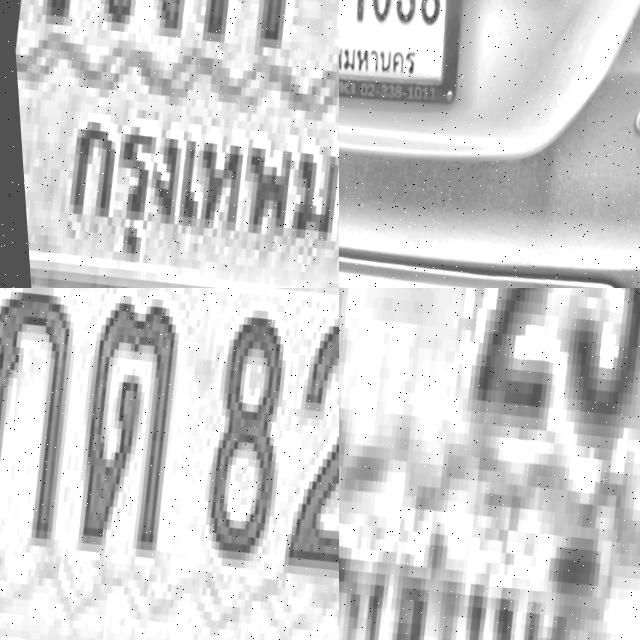license-plate: (0, 288, 339, 640), (339, 288, 640, 640), (0, 0, 339, 288), (339, 0, 477, 126)
